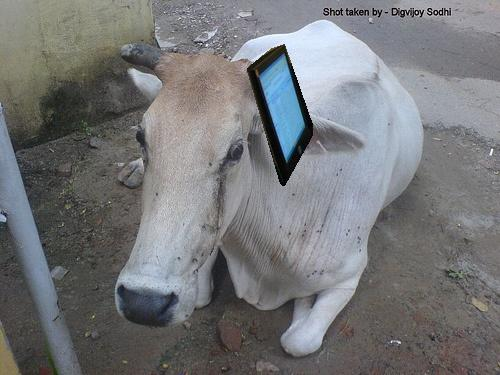tampered: (248, 45, 313, 186)
